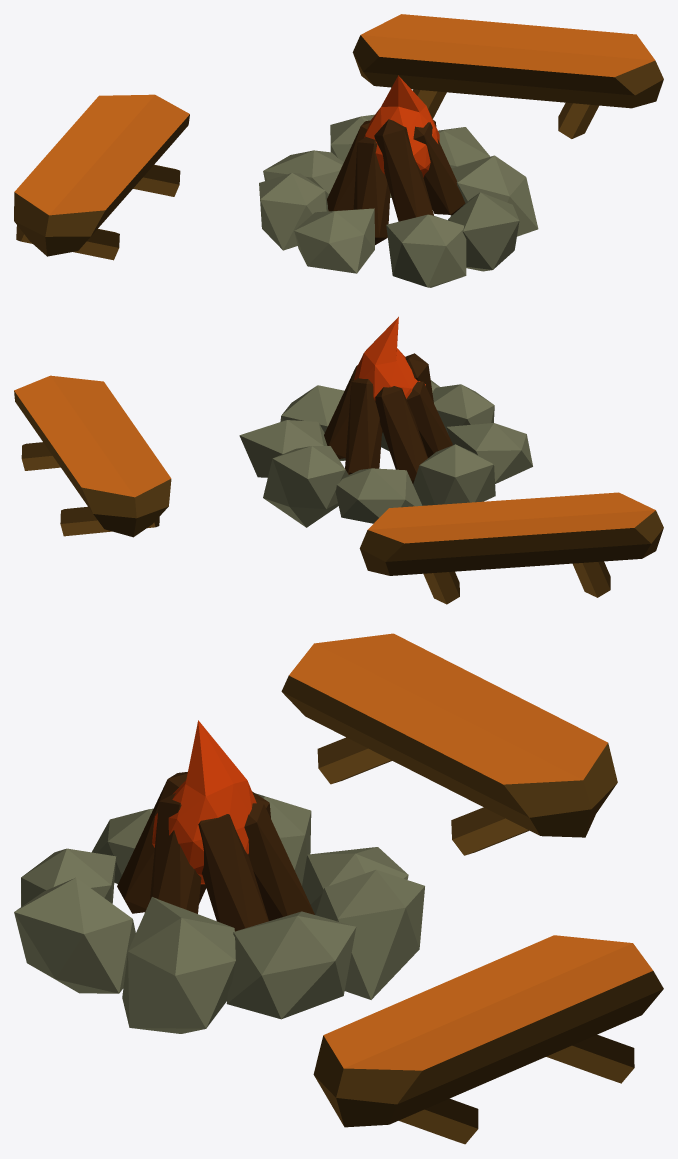
File: fogata.obj
The picture shows the model from 3 angles, top to bottom: view 1: azimuth 30°, elevation 25°; view 2: azimuth 150°, elevation 25°; view 3: azimuth 270°, elevation 25°; orthographic projection. The views are drawn at different scales.
Parts seen in each view (by area): view 1: Icosphere.002, Cylinder.008_Cylinder.007, Cylinder.007, Icosphere.003, Icosphere; view 2: Icosphere.002, Cylinder.007, Cylinder.008_Cylinder.007, Icosphere.003, Icosphere; view 3: Icosphere.002, Cylinder.007, Cylinder.008_Cylinder.007, Icosphere.003, Icosphere.
Boxes of the visible parts, x1,y1,x2,y2 form: Icosphere.002: (259,114,538,287); Cylinder.008_Cylinder.007: (352,14,663,138); Cylinder.007: (14,94,189,260); Icosphere.003: (327,119,465,244); Icosphere: (364,75,439,177); Icosphere.002: (239,380,532,527); Cylinder.007: (359,492,663,604); Cylinder.008_Cylinder.007: (14,375,171,537); Icosphere.003: (324,353,452,483); Icosphere: (354,316,425,400); Icosphere.002: (14,793,424,1033); Cylinder.007: (281,633,617,855); Cylinder.008_Cylinder.007: (313,935,663,1144); Icosphere.003: (117,772,314,931); Icosphere: (152,720,256,884).
Size of the model in its own units: 12.18 by 3.22 by 7.56.
